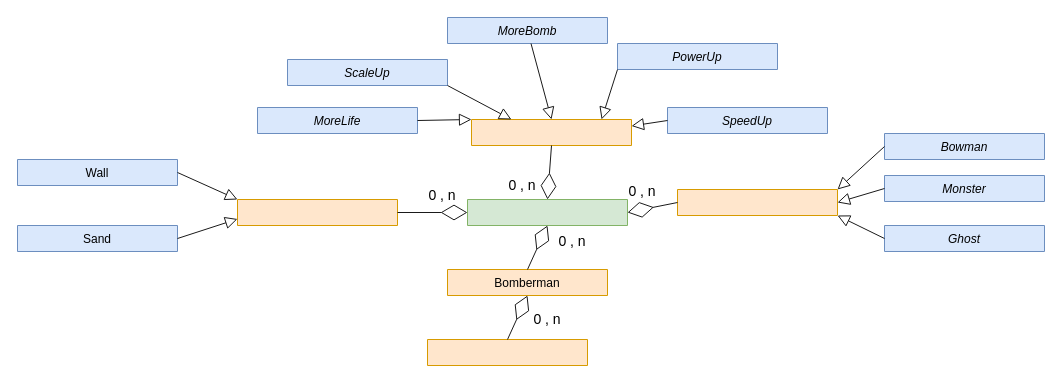
The diagram is 1062 pixels wide and 383 high, and some of its shapes have lost their labels. Each missing label, with the box of its shape:
Bomb: (426, 338, 588, 366)
Ennemi: (676, 188, 838, 216)
Item: (470, 118, 632, 146)
Map: (466, 198, 628, 226)
Tile: (236, 198, 398, 226)
